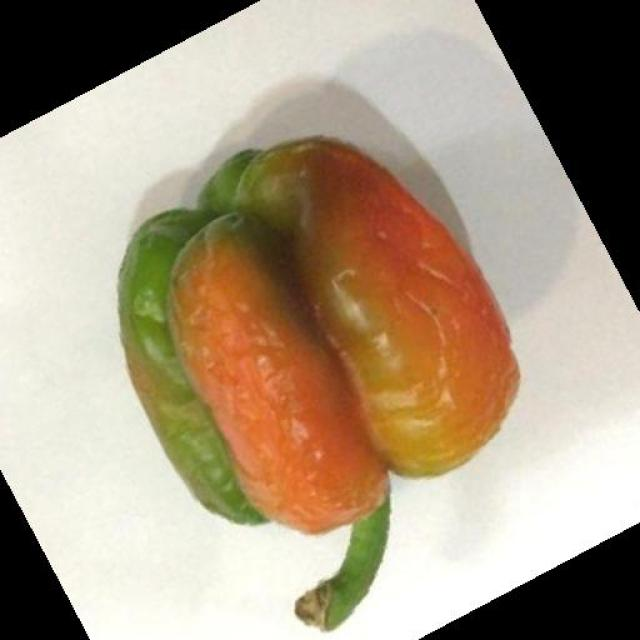Stale_Capsicum: (118, 119, 513, 538)
